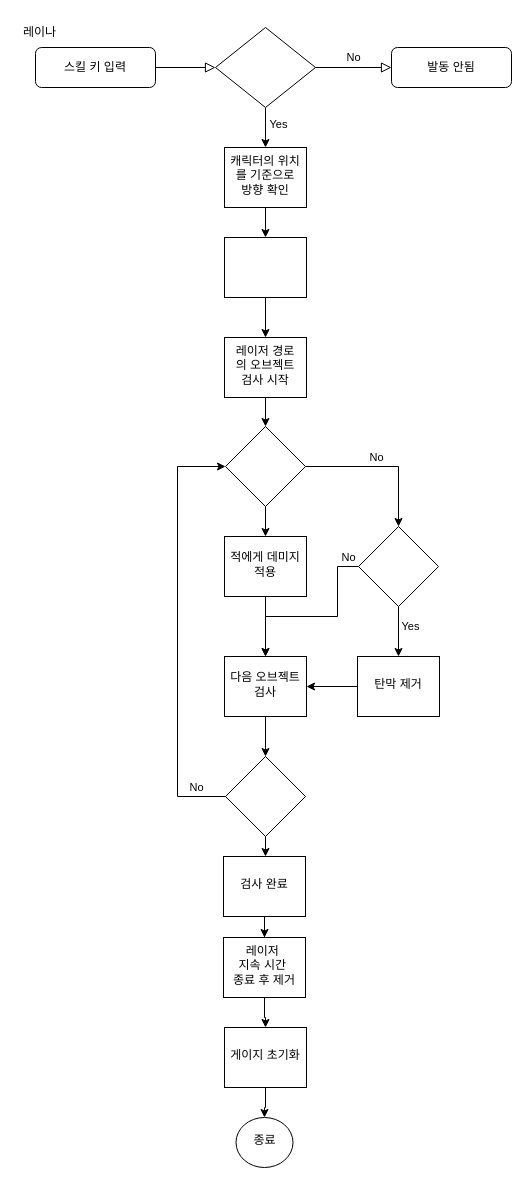
The diagram is 529 pixels wide and 1185 high, and some of its shapes have lost their labels. Here are the shapes that lost their labels. From the top down, the centre of each, then its label:
the point at 265,67: 스킬 게이지 = 100%
the point at 265,267: 레이저 생성 및 시각 효과 출력
the point at 265,466: 오브젝트 = 적
the point at 398,566: 오브젝트 = 탄막
the point at 265,796: 검사 종료 확인
